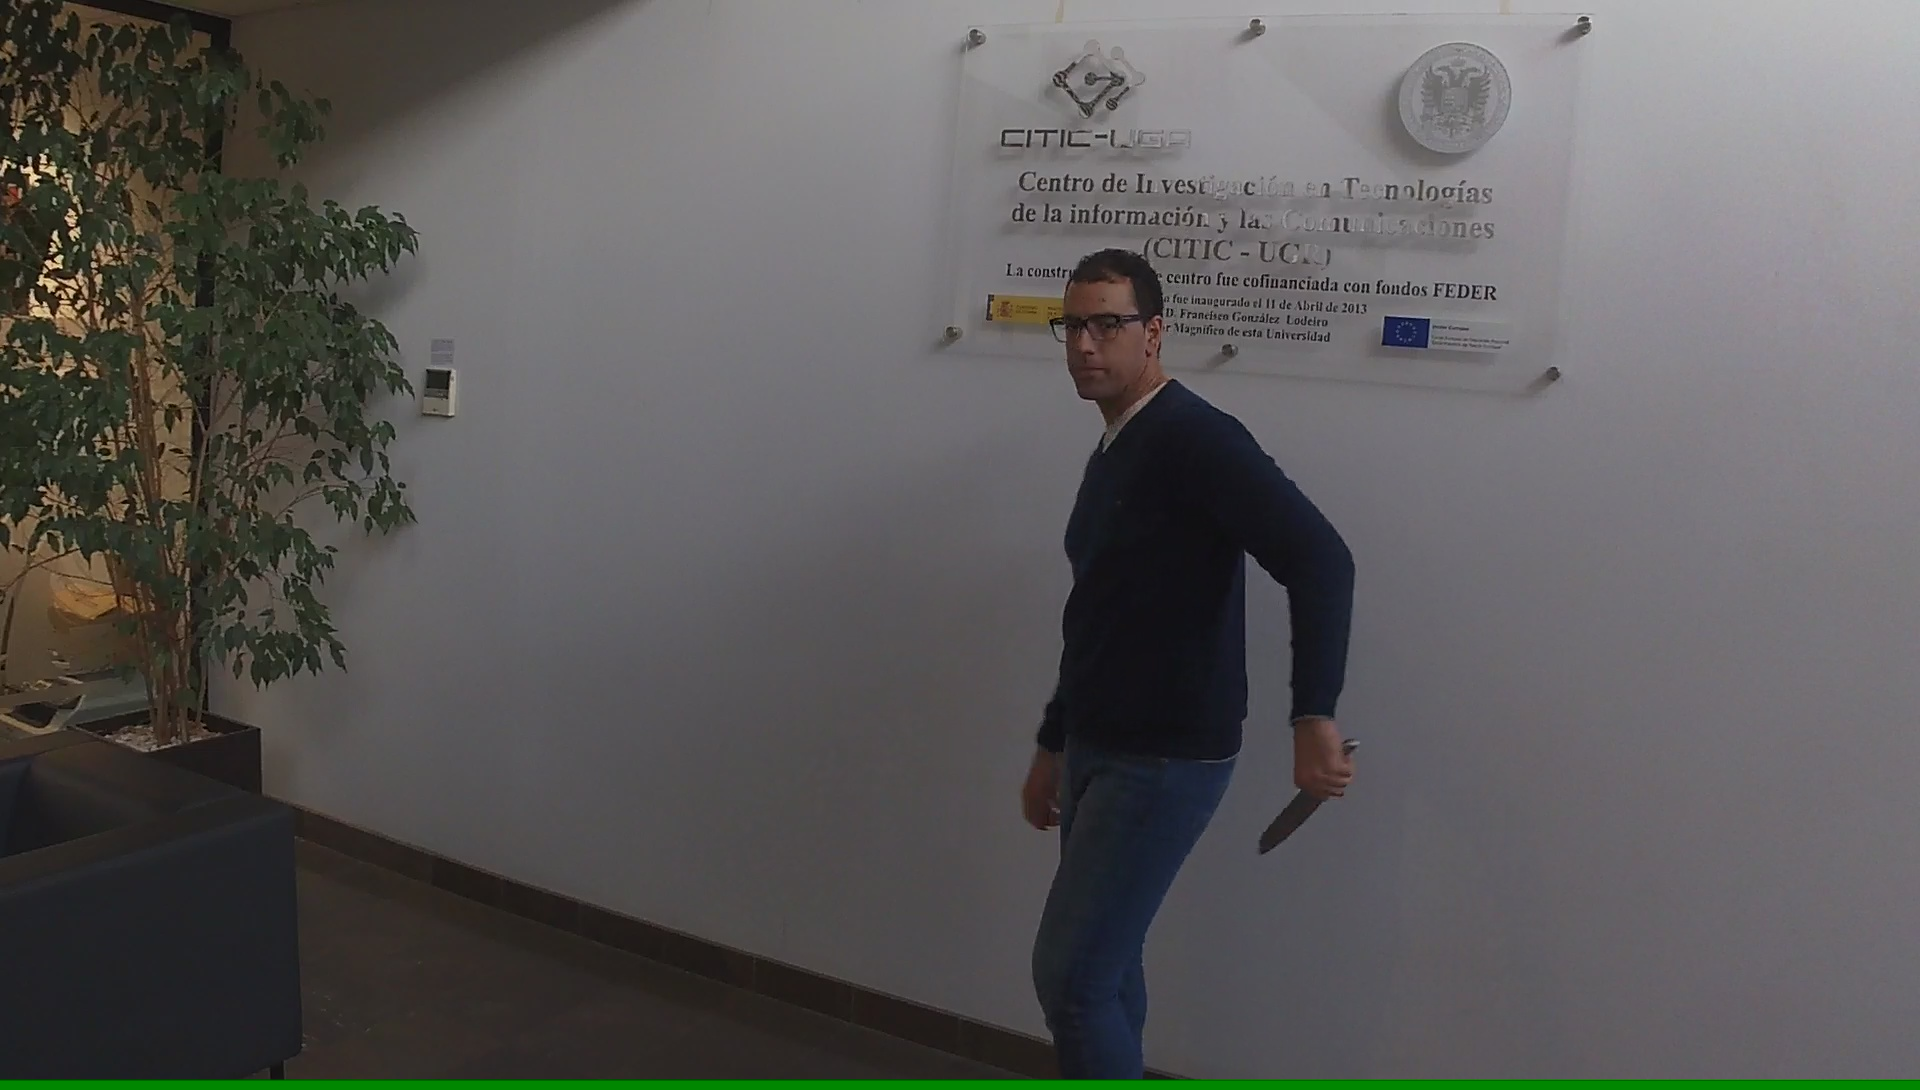knife: (1251, 733, 1365, 867)
